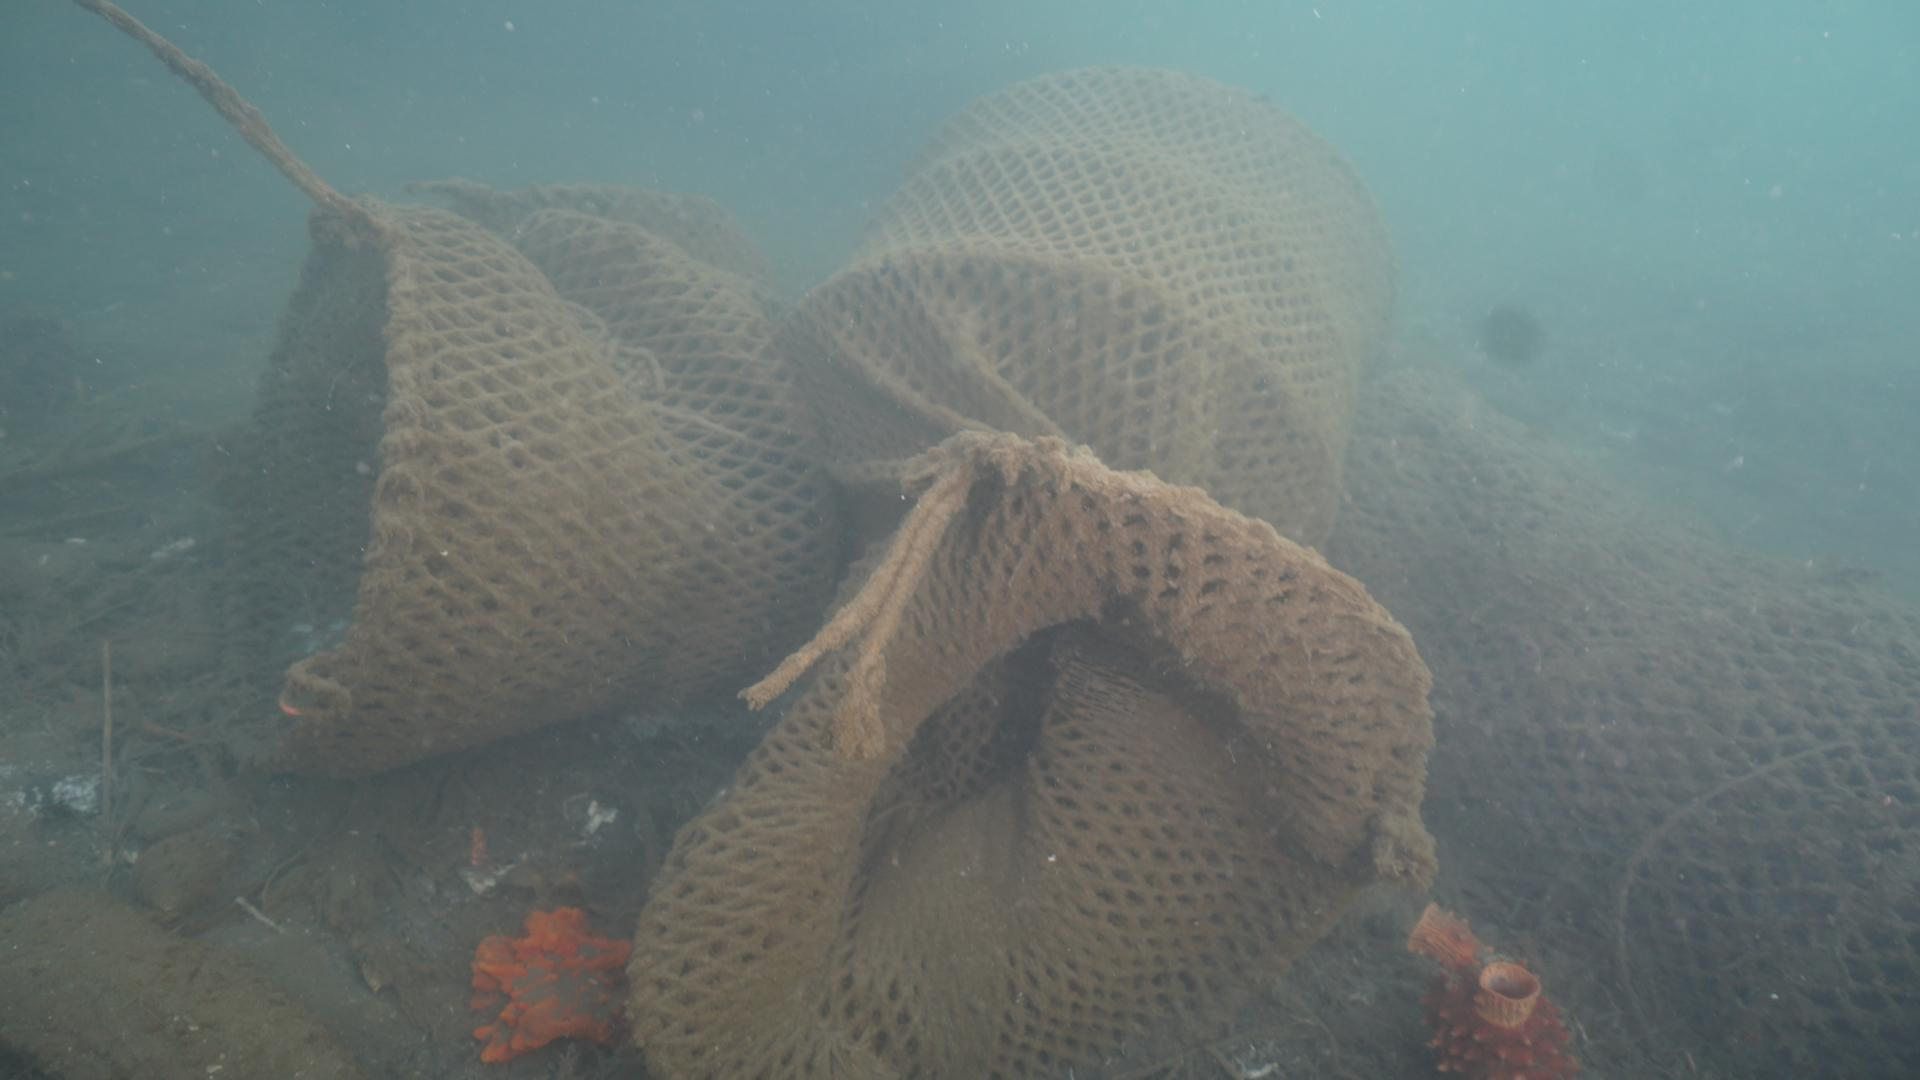bundle of ropes: (67, 0, 375, 229)
spring fish trap: (625, 61, 1437, 1080), (1320, 356, 1920, 1069), (204, 171, 807, 774)
